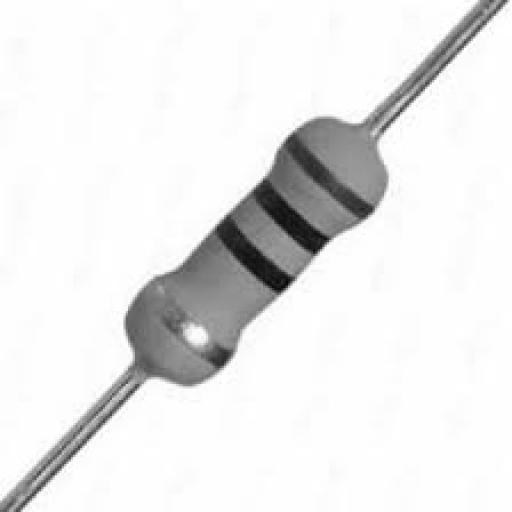RESISTOR: (43, 78, 450, 419)
